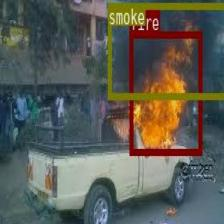fire: (129, 32, 202, 154)
smoke: (108, 2, 224, 99)
